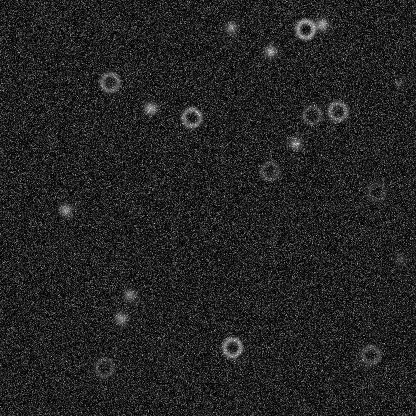Ring: (97, 69, 121, 93), (179, 105, 203, 129), (257, 158, 281, 182), (299, 102, 323, 126), (358, 342, 382, 366), (220, 335, 244, 359), (92, 355, 116, 379), (293, 17, 317, 41), (364, 179, 388, 203), (325, 99, 349, 123)
Spot: (391, 74, 407, 90), (57, 201, 73, 217), (287, 135, 303, 151), (112, 310, 128, 326), (222, 19, 238, 35), (121, 286, 137, 302), (392, 251, 408, 267), (262, 43, 278, 59), (142, 100, 158, 116), (313, 16, 329, 32)
